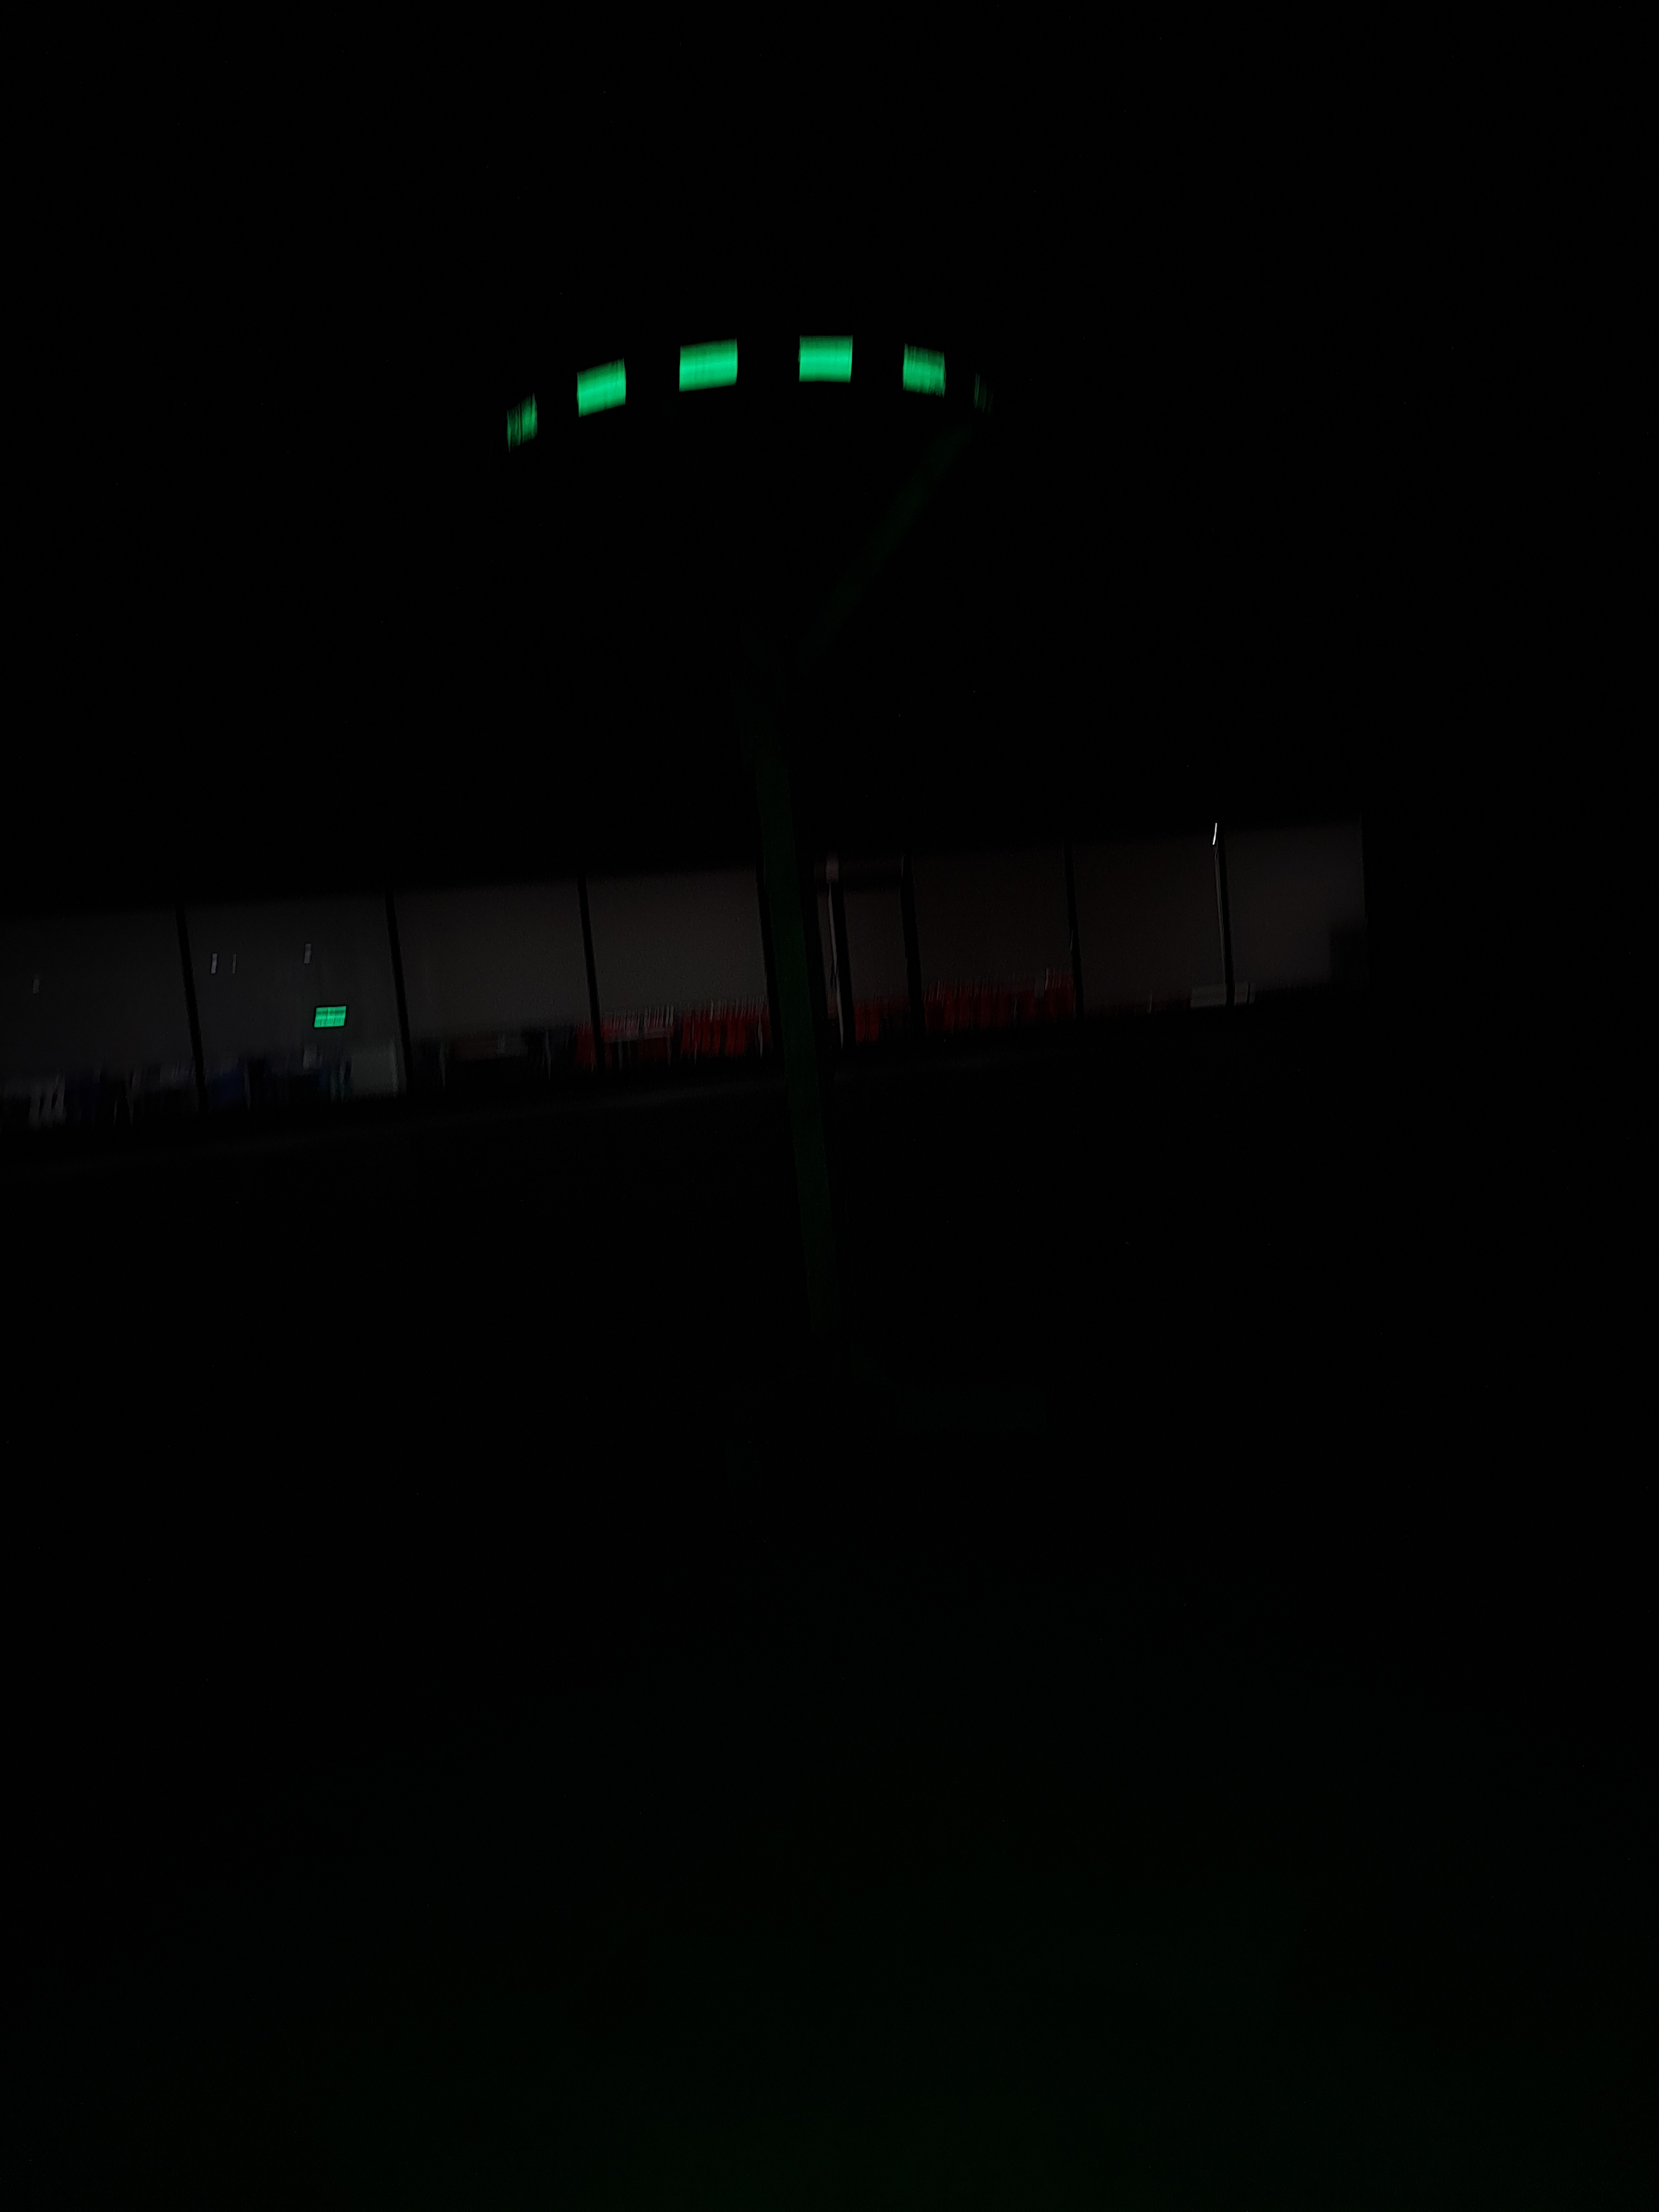hoop: (498, 329, 1000, 463)
